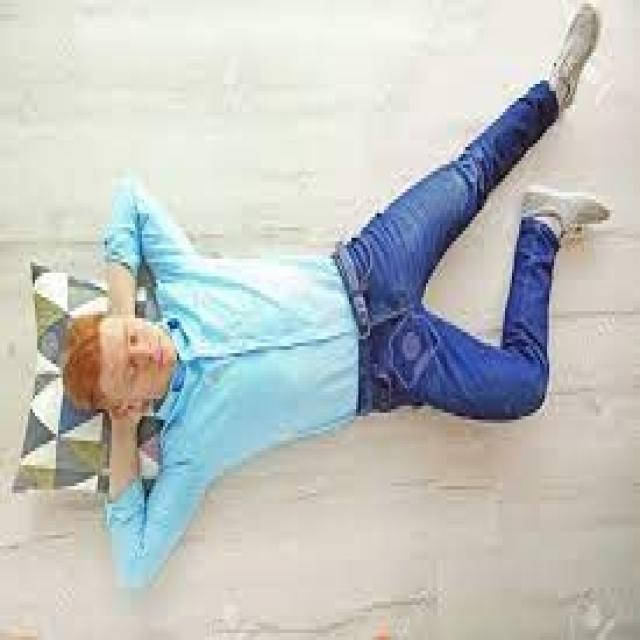lie: (57, 180, 560, 444)
